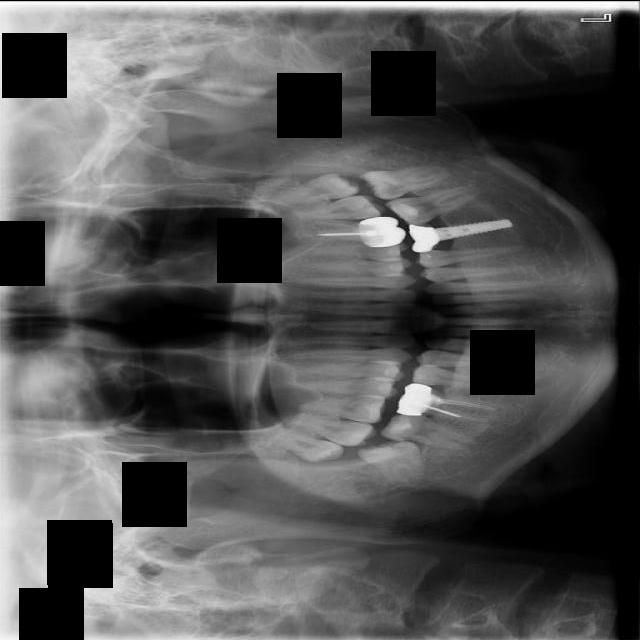3M ESPE Implant: (256, 423, 345, 469)
52: (356, 158, 411, 212), (377, 398, 431, 453), (305, 161, 363, 209), (384, 185, 436, 235), (356, 208, 409, 253), (393, 376, 440, 425), (325, 417, 378, 449), (334, 192, 387, 220), (343, 392, 387, 424), (407, 217, 442, 254), (364, 239, 409, 262), (364, 358, 406, 382), (370, 257, 412, 276), (361, 376, 397, 398), (416, 247, 451, 269), (390, 442, 409, 455), (410, 420, 415, 426)
73: (425, 389, 500, 427), (283, 214, 366, 243), (560, 39, 576, 43)
BioHorizons Implant: (263, 192, 387, 227)
BioLife Implant: (258, 168, 361, 211)
Biomet 3i Implant: (358, 162, 455, 202)
Blue Sky Bio Implant: (384, 183, 483, 230)
Caries: (266, 406, 378, 450)
Implant: (378, 405, 482, 453)
Keystone Dental Implant: (356, 431, 429, 495)
